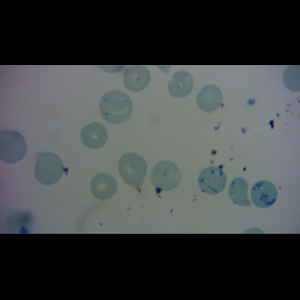aggregate reticulocyte: (197, 165, 228, 195), (250, 180, 278, 208), (228, 177, 252, 209)
erythrocyte: (117, 151, 149, 189), (33, 151, 66, 186), (79, 121, 110, 150), (195, 83, 224, 114), (166, 70, 195, 99), (89, 173, 119, 201), (122, 65, 152, 93)
punctate reticulocyte: (98, 89, 134, 125), (148, 159, 182, 191)
